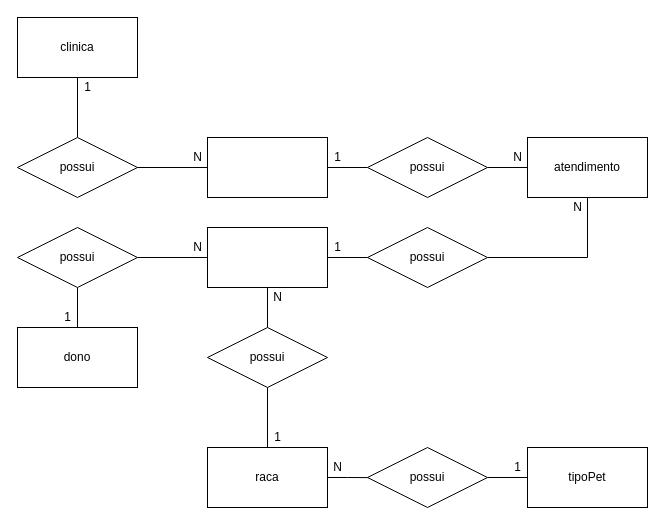
Image size: 665x525. Some labels were removed from this diagram. The box of each missing label's shape, as (x1, y1, x2, y2) in pixels:
pet: (206, 226, 328, 288)
veterinario: (206, 136, 328, 198)
